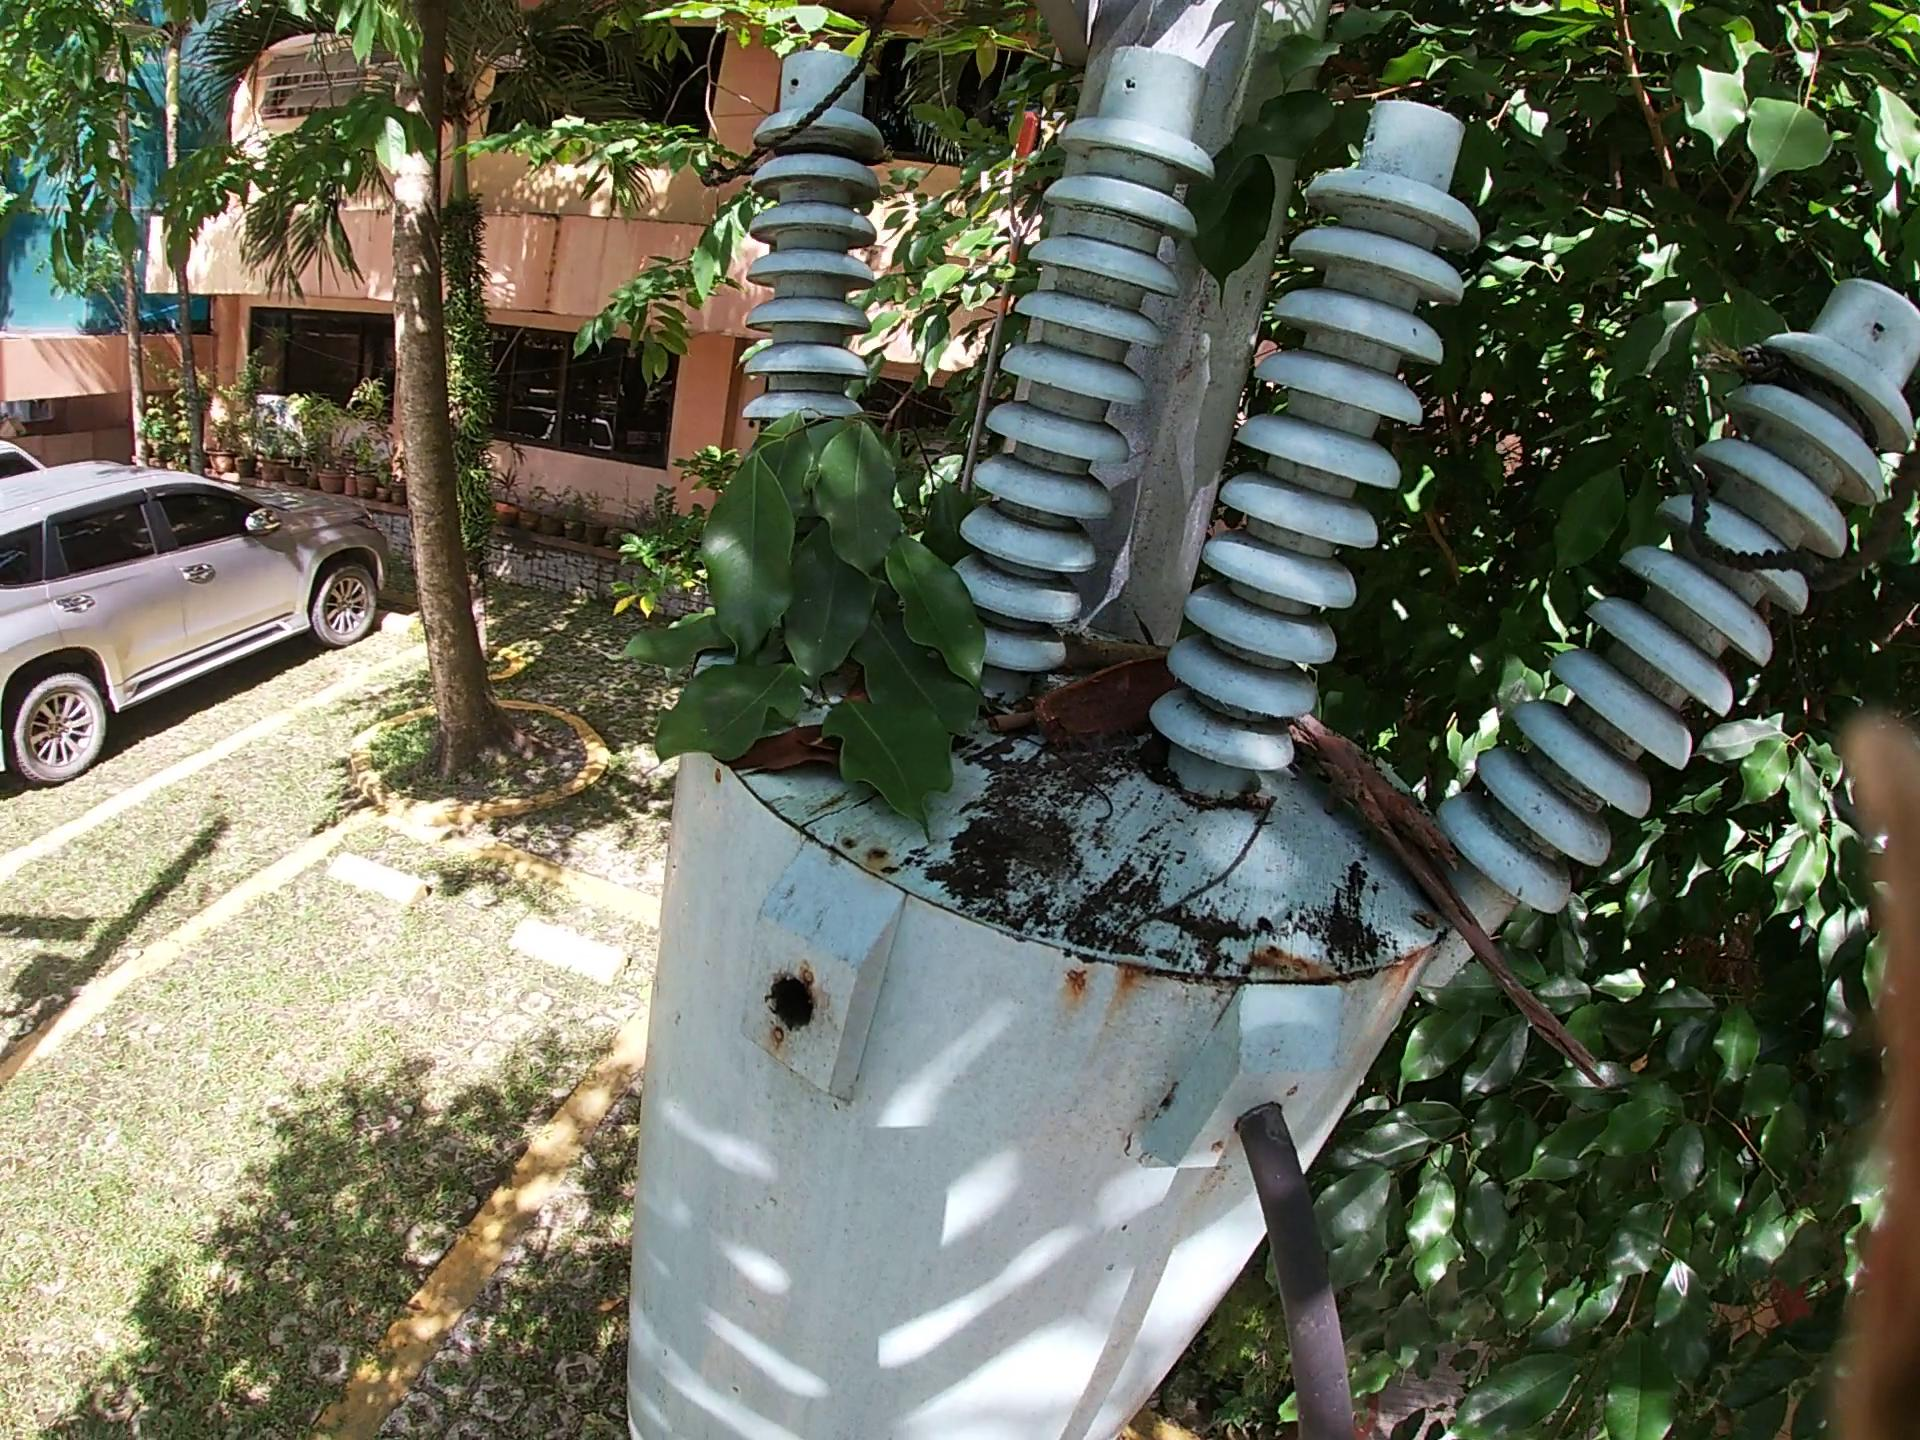branch with leaves: (584, 375, 1008, 838)
mahogany fruit: (1042, 655, 1185, 746), (735, 714, 862, 771)
tree branch: (1281, 688, 1624, 1100), (1161, 765, 1271, 945), (1064, 619, 1182, 661), (1054, 764, 1117, 843), (984, 706, 1036, 734)
